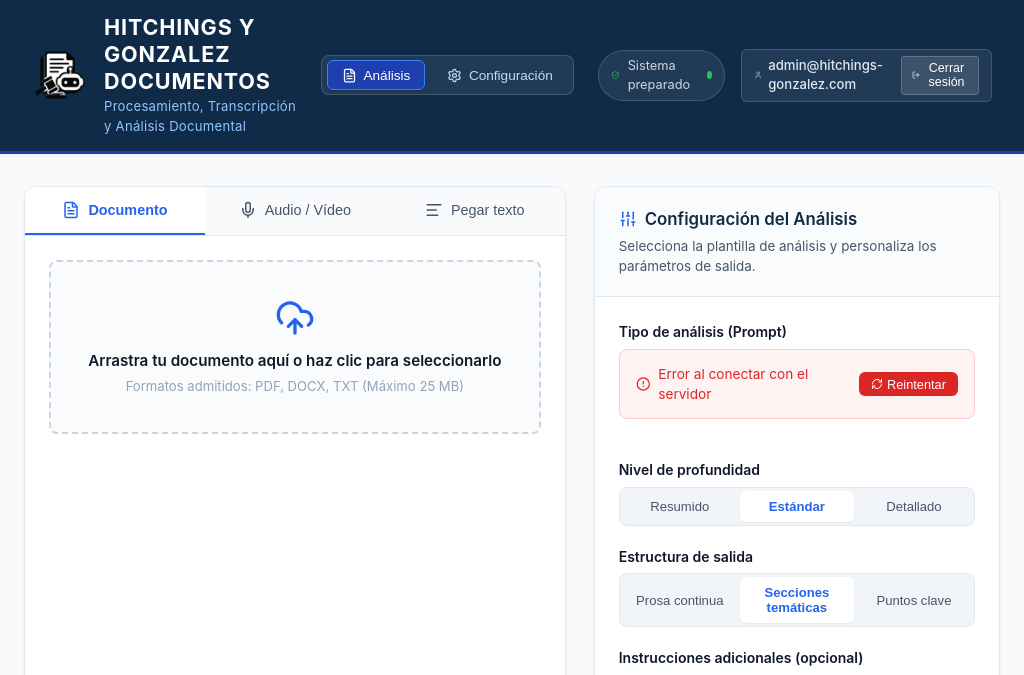
Scenario: Autenticación y Sesiones Frontend (Bloque 7A) › 8. Si la carga de prompts falla por error de red/servidor (no 401), muestra error y botón Reintentar
Expected: the text "Error al conectar con el servidor" is shown, [658,366,808,402]
// Clic en reintentar debe invocar nuevamente fetchPrompts y cargar el prompt
Click the button "Reintentar" at (908, 384), box [859,372,958,396]
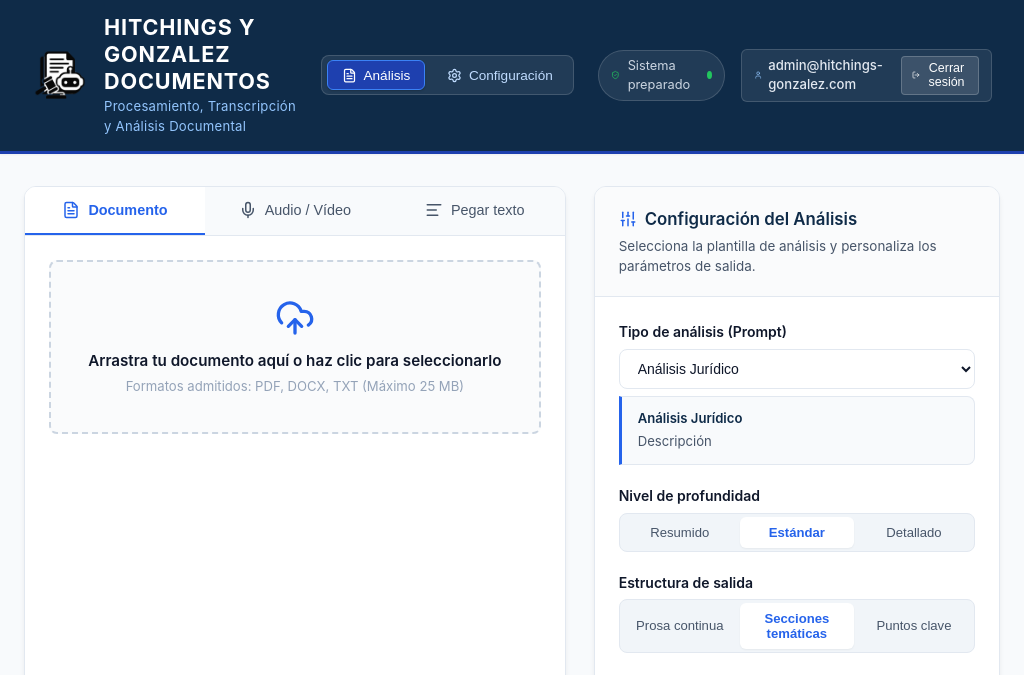
Now the text "Error al conectar con el servidor" is gone
Now the dropdown showing "Análisis Jurídico" is shown, box [619,349,975,389]
